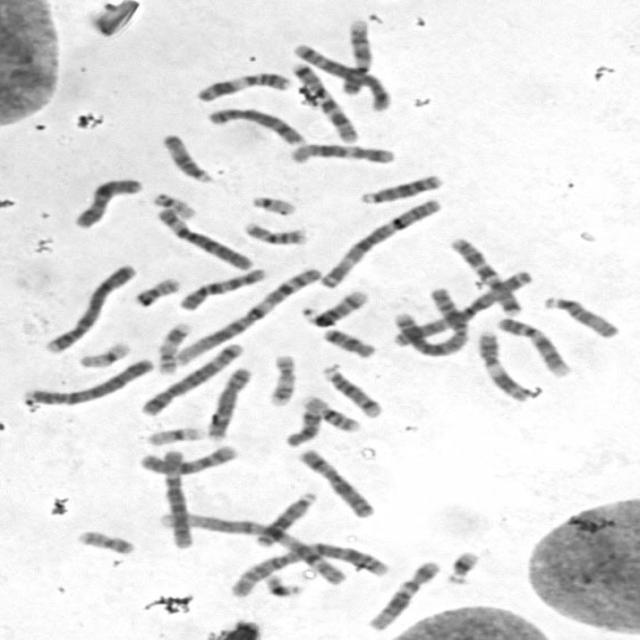A1: (171, 263, 323, 366), (159, 507, 352, 585)
A2: (221, 536, 393, 599), (391, 284, 471, 358)
A3: (315, 193, 445, 290), (385, 265, 534, 349)
B4: (40, 258, 139, 355), (20, 353, 156, 407)
B5: (135, 339, 246, 417), (289, 39, 393, 112)
C10: (173, 263, 271, 312), (131, 440, 239, 476)
C11: (472, 325, 537, 403), (189, 67, 292, 103)
C12: (364, 556, 444, 632), (284, 140, 398, 166)
C6: (148, 204, 255, 272), (155, 445, 195, 550)
C7: (444, 233, 526, 317), (286, 57, 362, 144)
C8: (200, 103, 307, 147), (202, 363, 254, 441)
C9: (492, 312, 572, 378), (335, 15, 374, 96)
D13: (248, 486, 320, 548), (355, 169, 444, 205)
D14: (317, 360, 384, 419), (297, 285, 370, 327)
D15: (539, 292, 623, 339), (156, 129, 214, 184)
E16: (296, 391, 361, 433), (239, 217, 312, 246)
E17: (152, 318, 192, 376), (262, 349, 298, 408)
E18: (317, 324, 377, 358), (281, 402, 325, 448)
F19: (72, 337, 132, 369), (142, 422, 207, 448)
F20: (72, 525, 138, 556), (128, 272, 182, 308)
G21: (439, 546, 482, 586), (260, 570, 306, 598)
G22: (148, 187, 200, 220), (245, 190, 299, 216)
X: (294, 444, 379, 520), (67, 172, 144, 230)
